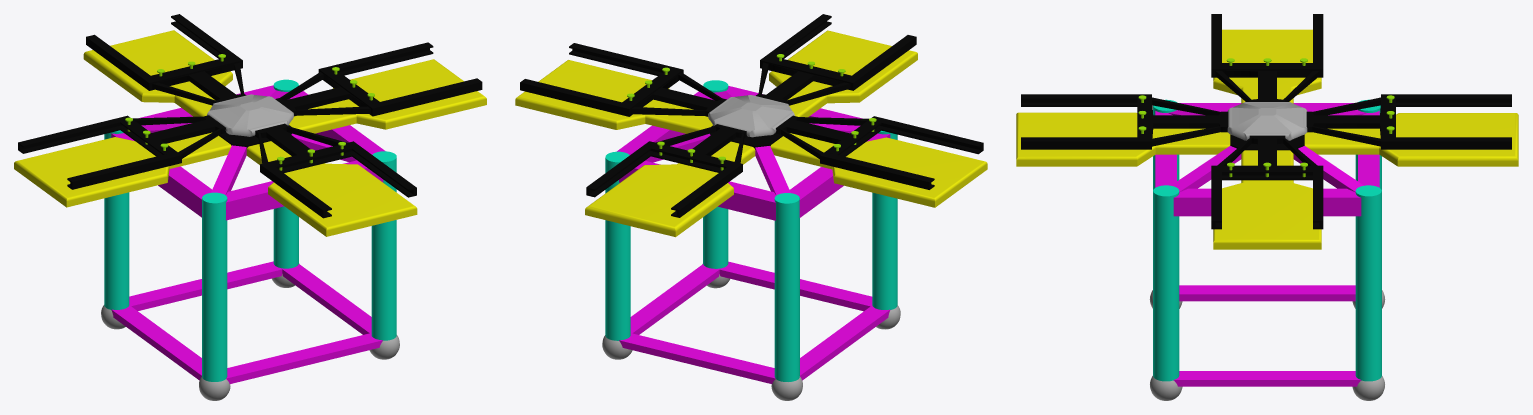
Rendered from ScreenPaintMachineMesh.fbx.
The picture shows the model from 3 angles, left to right: view 1: azimuth 30°, elevation 25°; view 2: azimuth 150°, elevation 25°; view 3: azimuth 270°, elevation 25°; orthographic projection. The views are drawn at different scales.
Visible parts, largest first — view 1: polySurface12, pCube38, pCube40, pCube39, pCube37, pasted__polySurface17; view 2: polySurface12, pCube38, pCube40, pCube37, pCube39, pasted__polySurface17; view 3: polySurface12, pCube39, pCube37, pCube40, pCube38, pasted__polySurface17.
Boxes of the visible parts, x1,y1,x2,y2 form: polySurface12: (14,30,486,400); pCube38: (18,115,226,189); pCube40: (275,42,482,116); pCube39: (255,123,416,218); pCube37: (86,14,246,105); pasted__polySurface17: (207,94,293,136); polySurface12: (515,30,987,400); pCube38: (775,115,983,189); pCube40: (520,43,726,116); pCube37: (586,124,746,217); pCube39: (756,14,916,105); pasted__polySurface17: (708,95,794,137); polySurface12: (1016,29,1518,400); pCube39: (1021,94,1228,149); pCube37: (1306,94,1511,149); pCube40: (1211,135,1323,229); pCube38: (1211,14,1323,101); pasted__polySurface17: (1227,102,1307,140).
Size of the model in its own units: 38.25 by 20.45 by 38.25.
